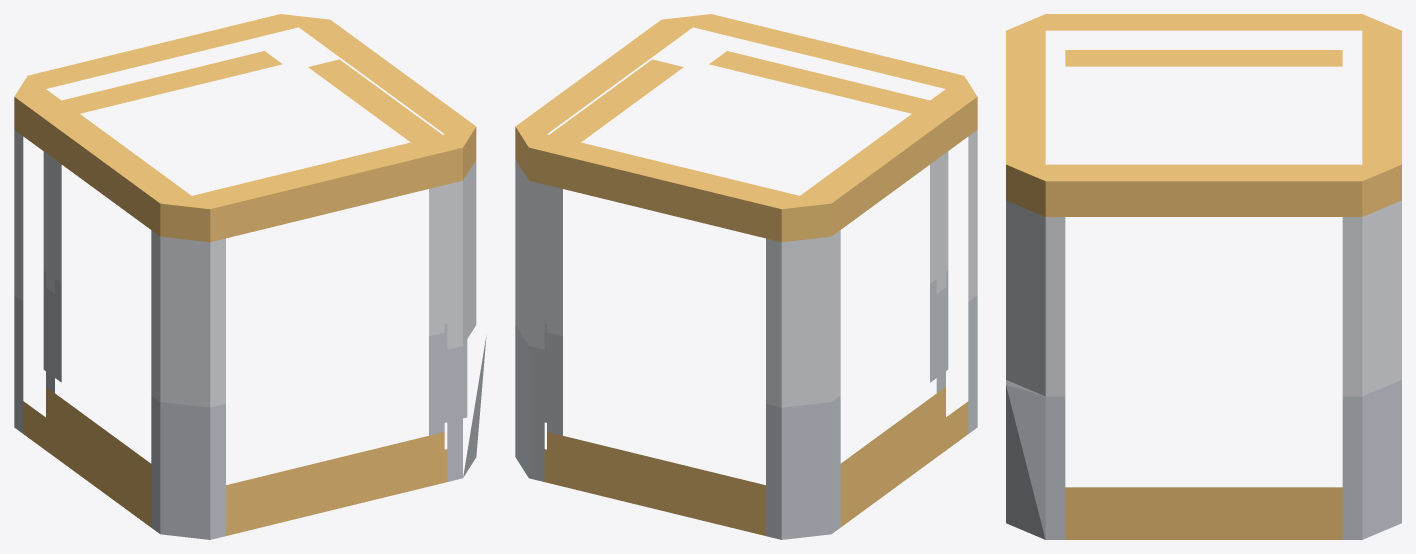
The model's file is coin_structure_detailed_lev1.001_lev2.glb.
The picture shows the model from 3 angles, left to right: view 1: azimuth 30°, elevation 25°; view 2: azimuth 150°, elevation 25°; view 3: azimuth 270°, elevation 25°; orthographic projection. The views are drawn at different scales.
Parts seen in each view (by area): view 1: coin_structure_detailed_lev1.001_lev2; view 2: coin_structure_detailed_lev1.001_lev2; view 3: coin_structure_detailed_lev1.001_lev2.
Boxes of the visible parts, left/top/right/bottom form: coin_structure_detailed_lev1.001_lev2: left=14, top=14, right=486, bottom=539; coin_structure_detailed_lev1.001_lev2: left=515, top=14, right=977, bottom=539; coin_structure_detailed_lev1.001_lev2: left=1006, top=14, right=1401, bottom=539.
Size of the model in its own units: 1 by 1 by 1.
